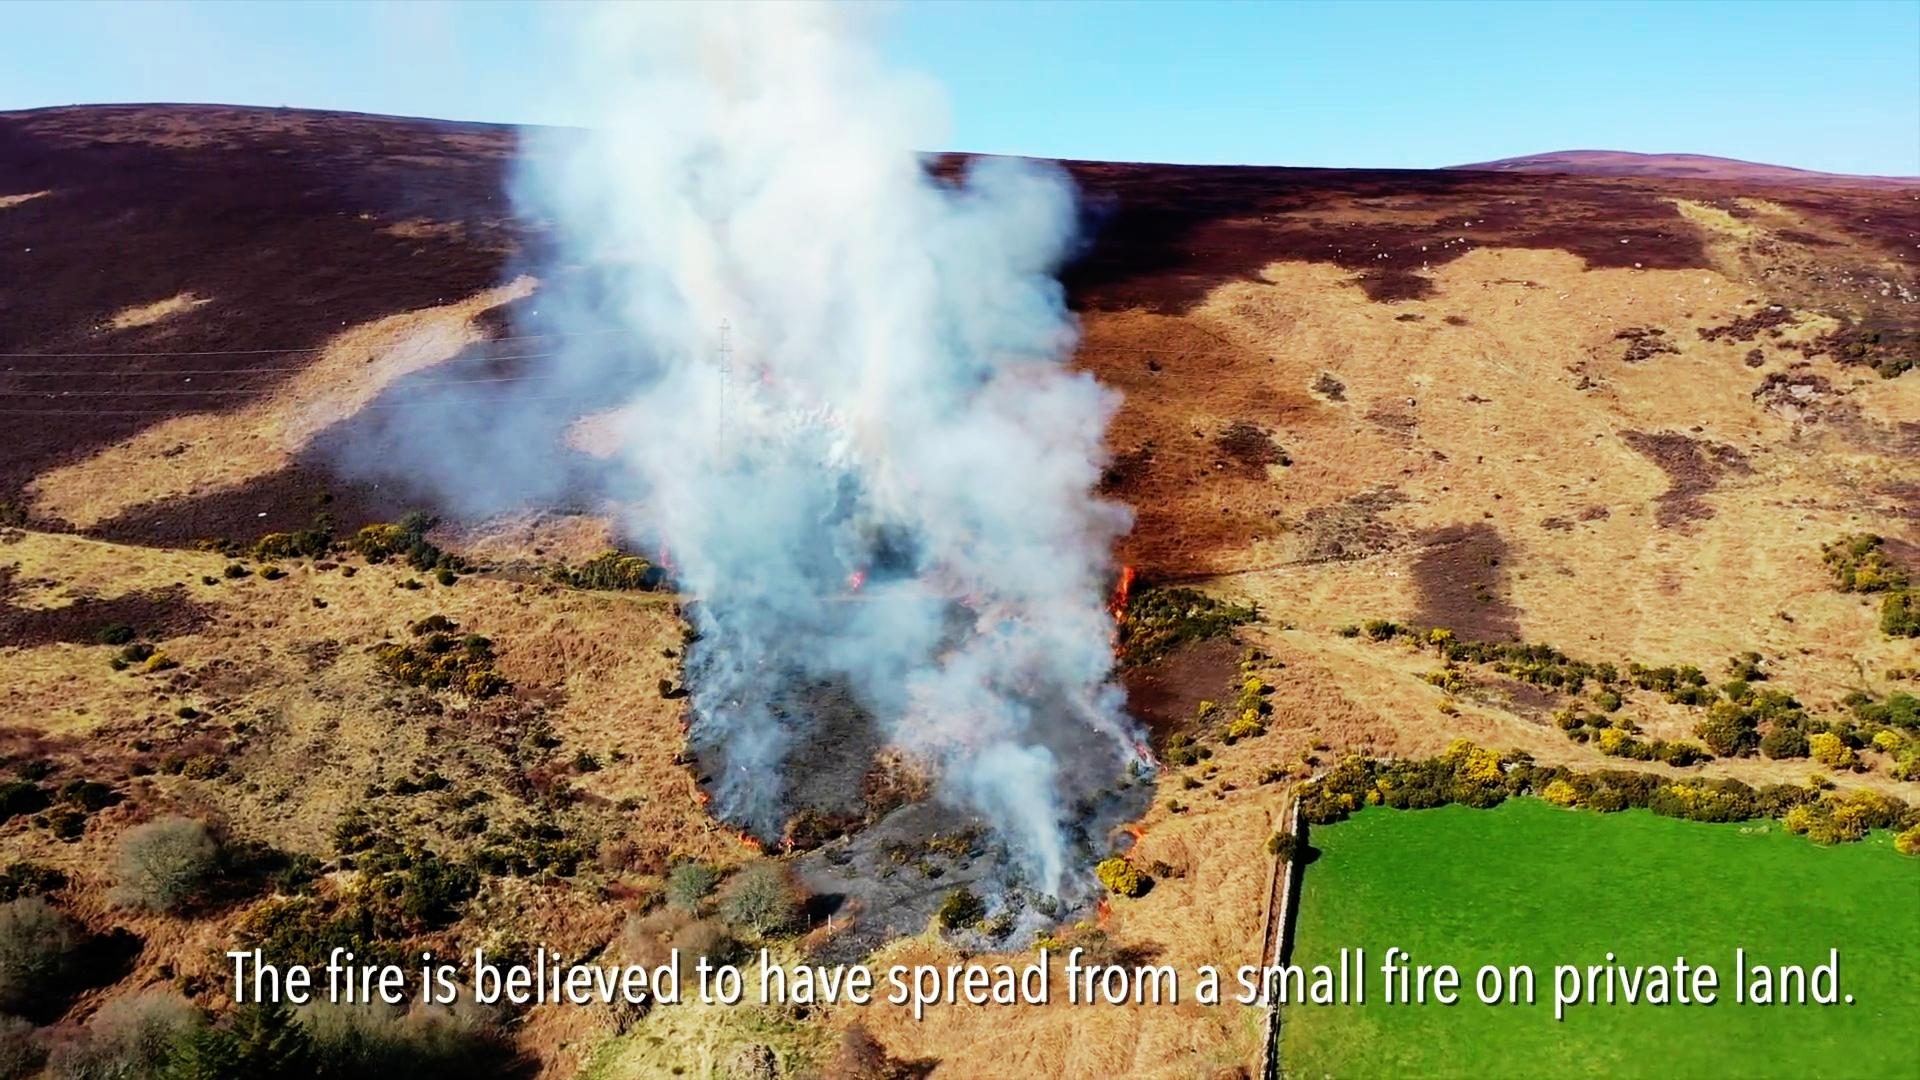smoke: (728, 189, 1073, 803), (521, 1, 868, 443), (716, 53, 931, 414), (862, 584, 1068, 886)
